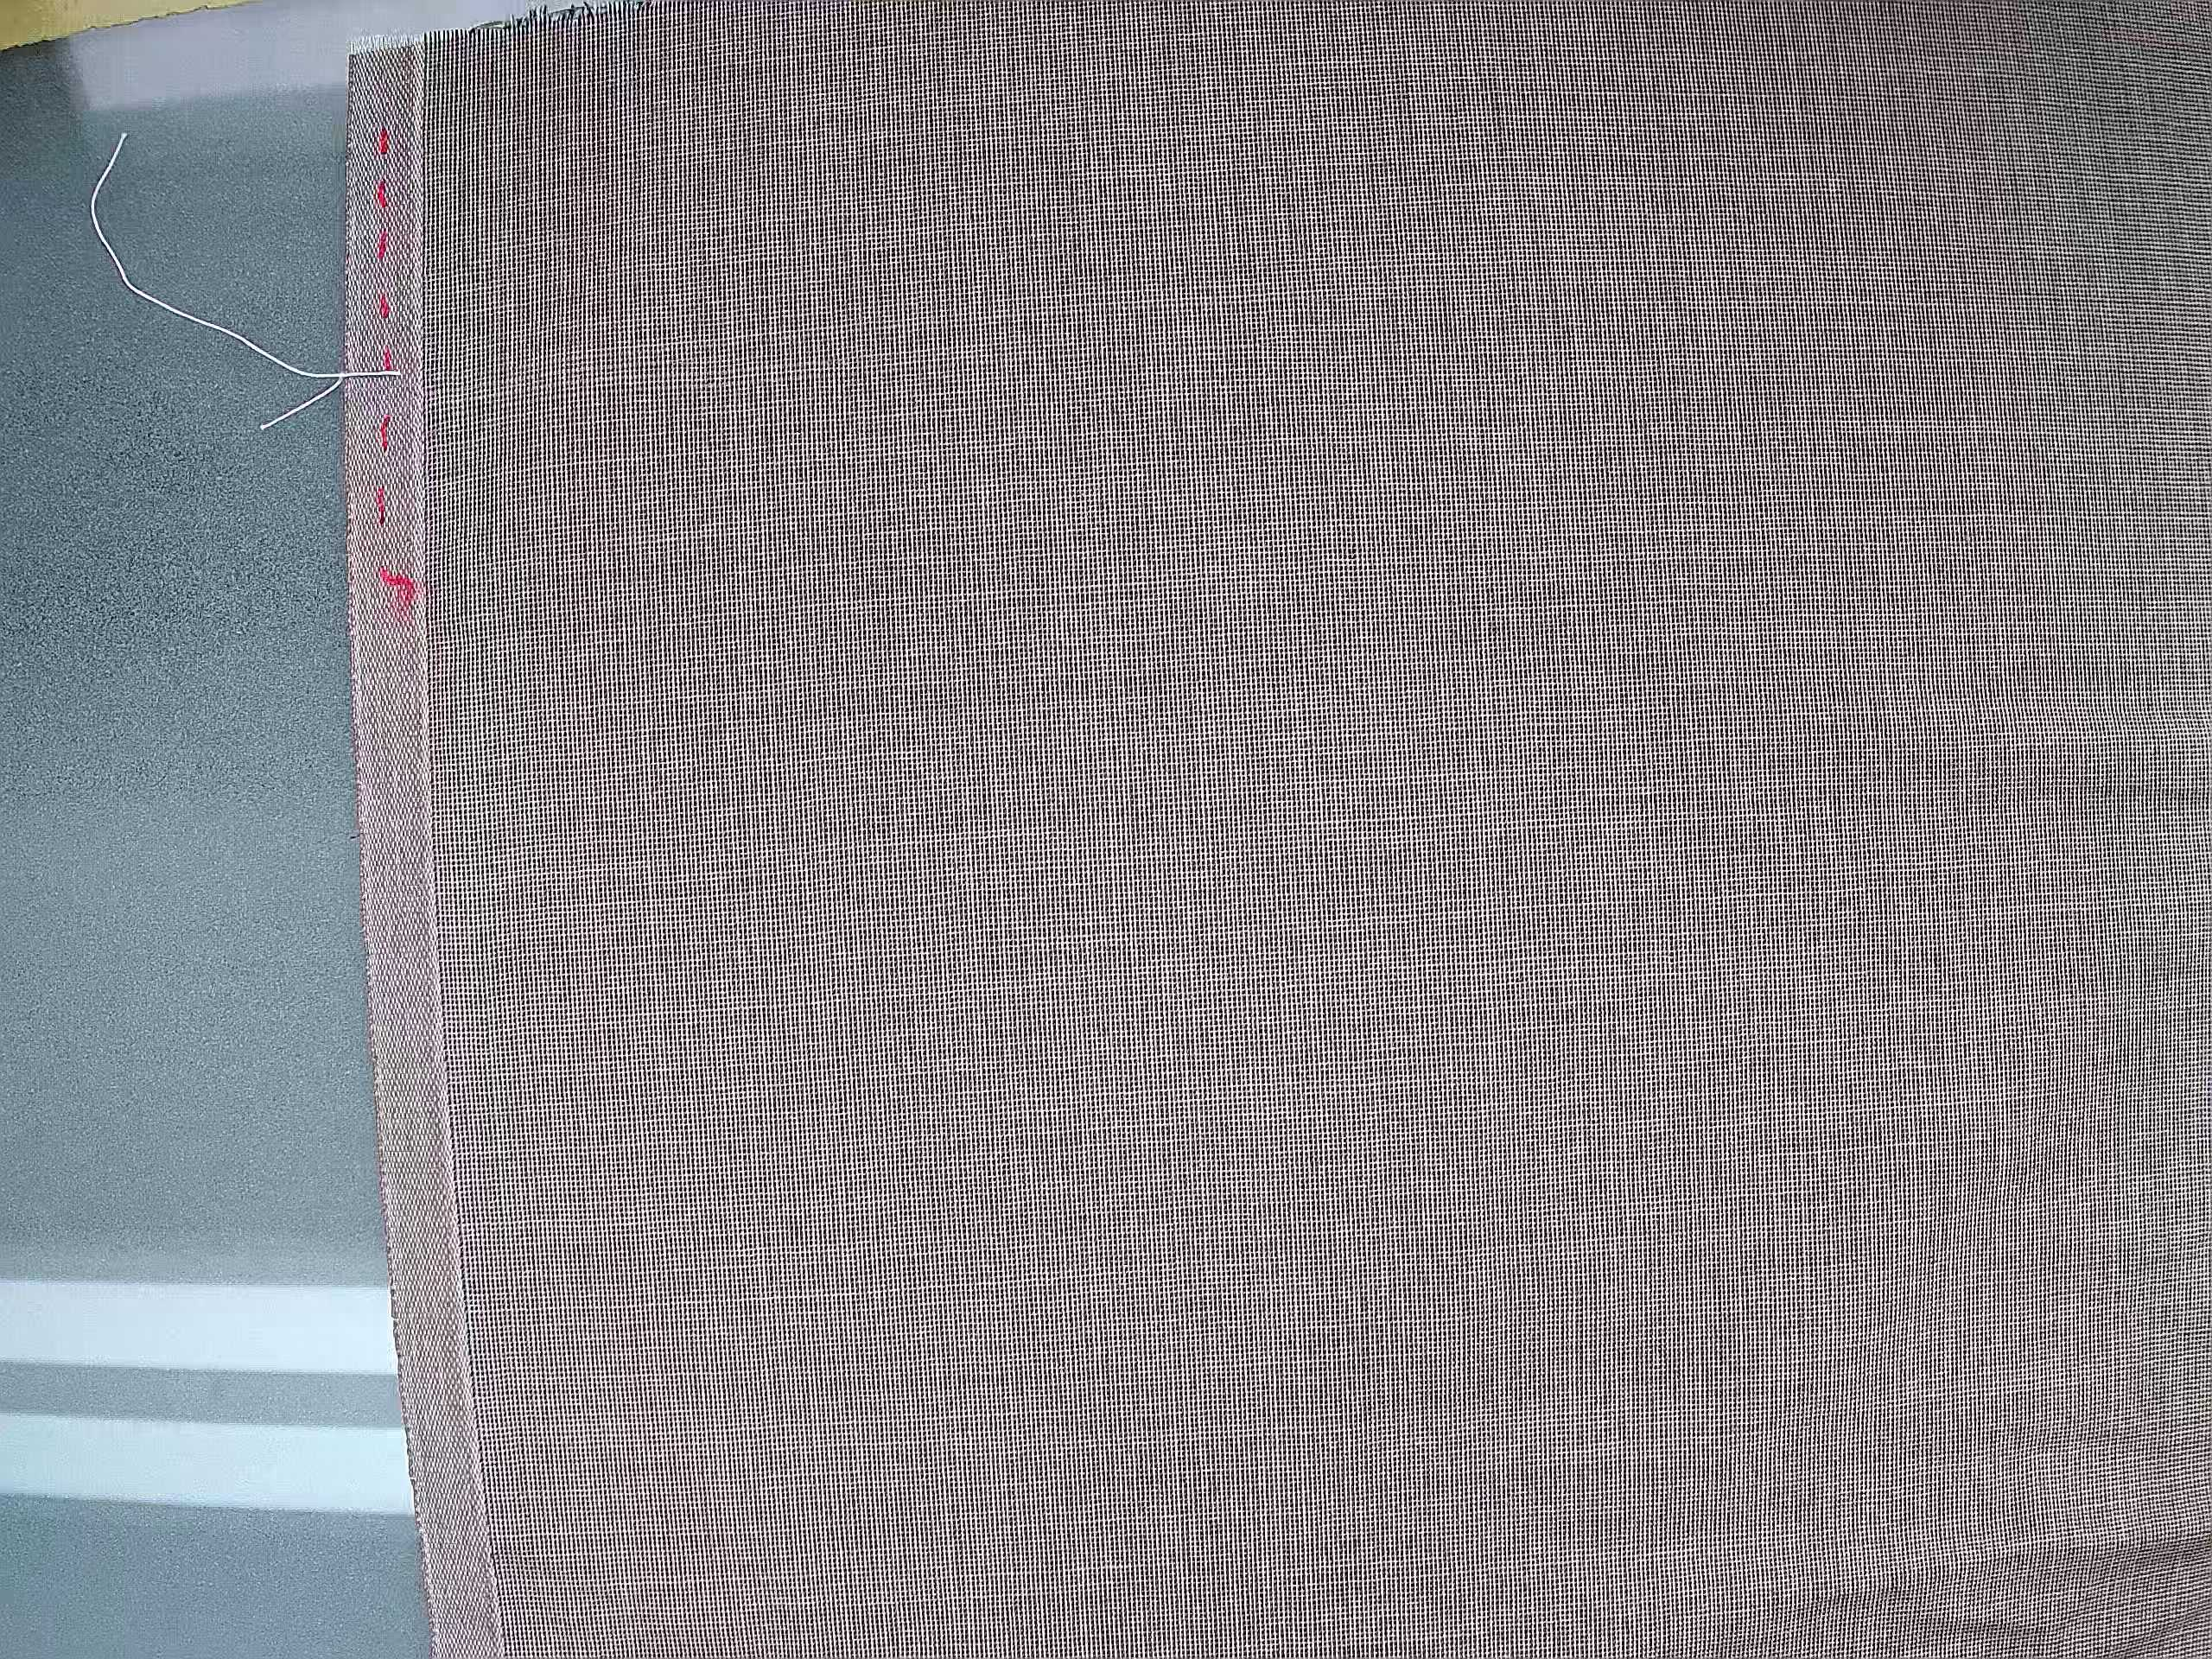others: (439, 253, 2168, 328)
